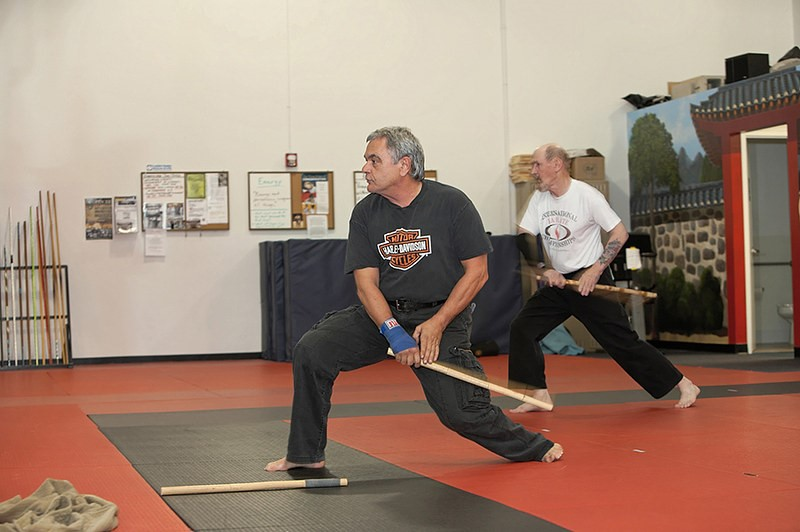baston_e: (392, 348, 548, 409), (164, 477, 344, 496), (539, 275, 654, 297)
baston_v: (383, 342, 395, 357), (157, 484, 166, 497), (341, 475, 349, 488), (545, 402, 555, 411), (651, 291, 660, 299), (534, 273, 541, 281), (44, 188, 50, 193), (51, 191, 56, 195), (16, 220, 21, 224), (28, 204, 32, 208), (23, 219, 27, 223), (7, 206, 11, 209), (38, 189, 41, 192), (35, 205, 38, 208)
